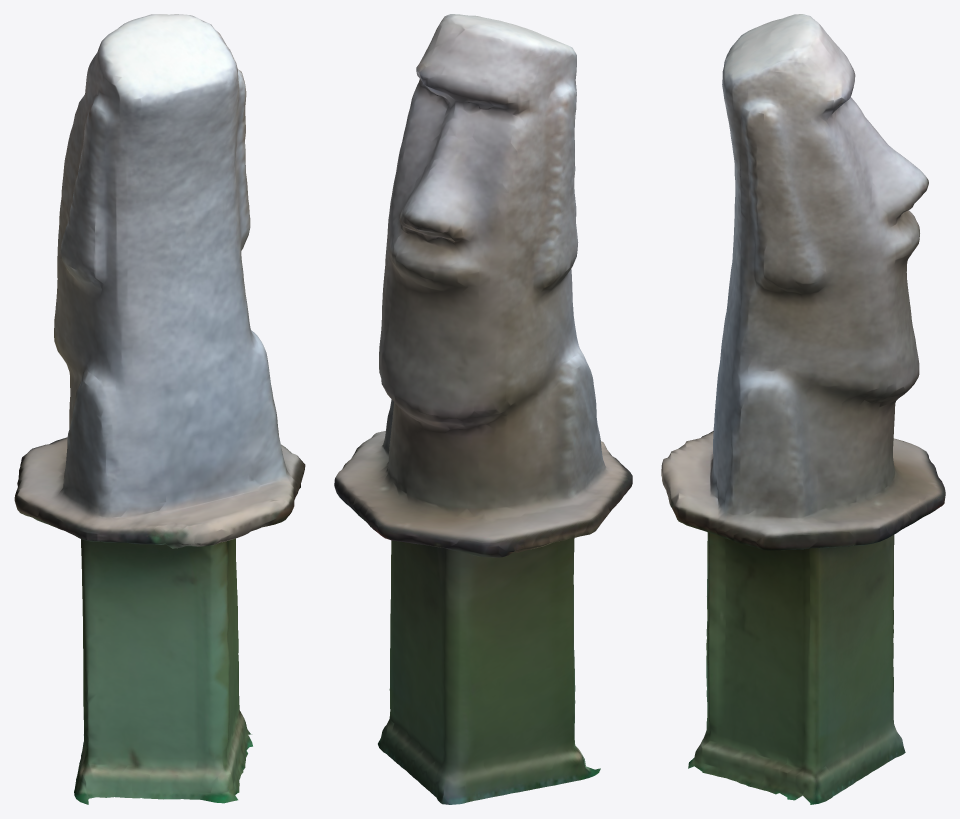
3 renders of one model, left to right at view 1: azimuth 30°, elevation 25°; view 2: azimuth 150°, elevation 25°; view 3: azimuth 270°, elevation 25°, orthographic. The views are drawn at different scales.
Parts seen in each view (by area): view 1: default; view 2: default; view 3: default.
Boxes of the visible parts, <box> form: default: <box>14,14,305,804</box>; default: <box>334,14,632,804</box>; default: <box>661,14,945,804</box>.
Bounding box in the file's own units: 9.43 × 26.13 × 9.24.
1 material, 1 textured.
